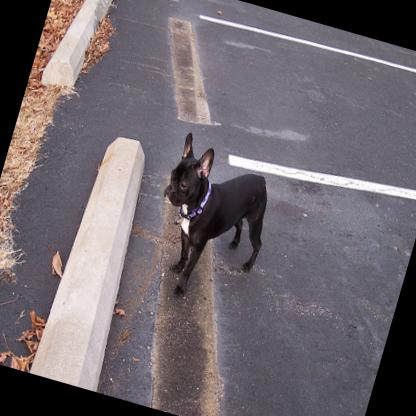French_bulldog: (134, 126, 288, 318)
